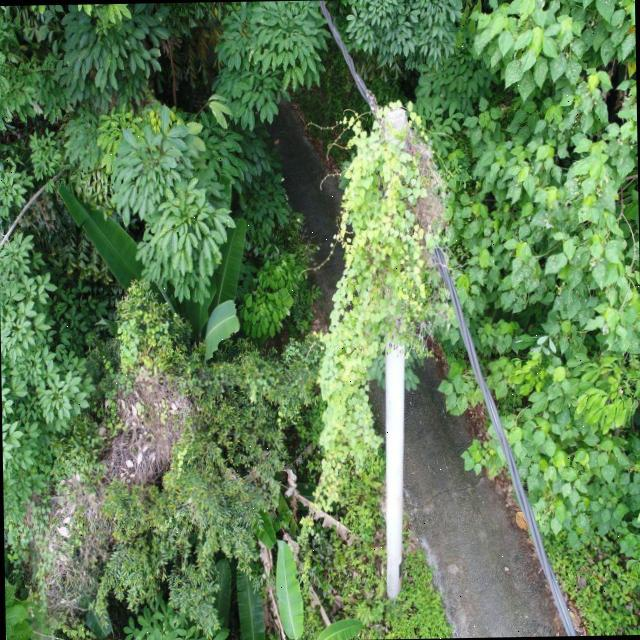critical vegetation: (288, 84, 472, 536)
